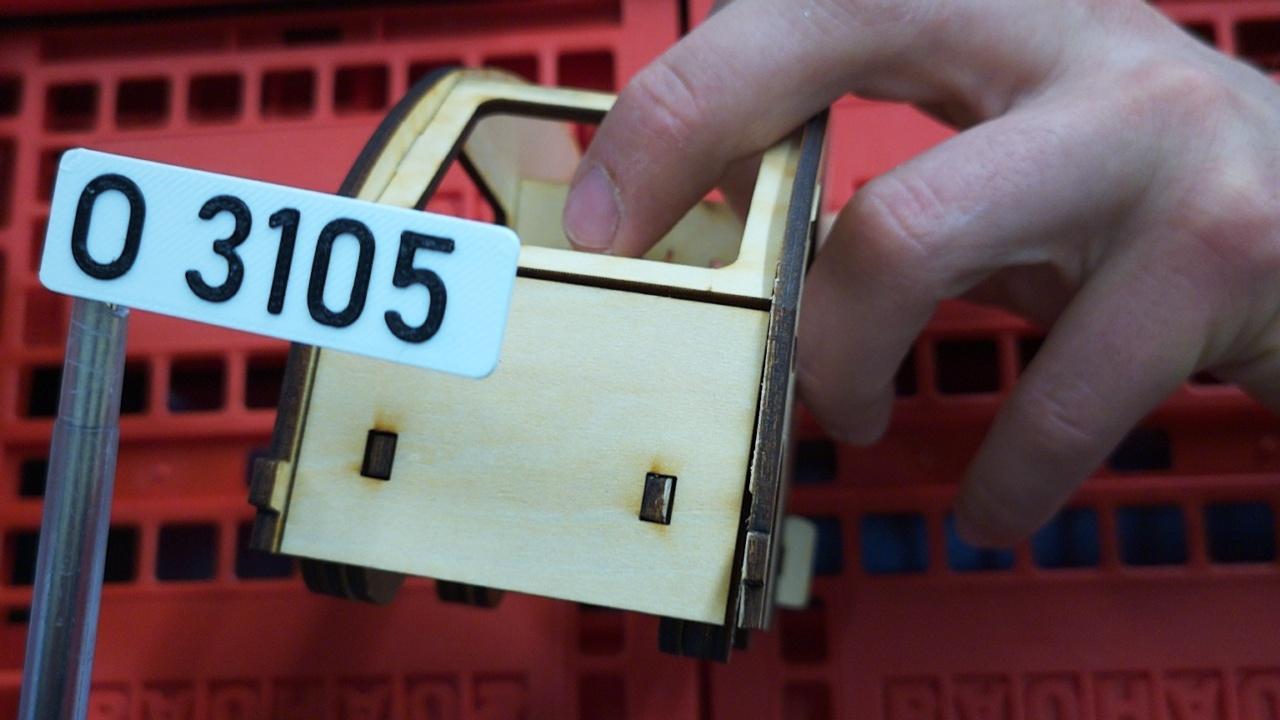license_plate: (36, 144, 525, 381)
